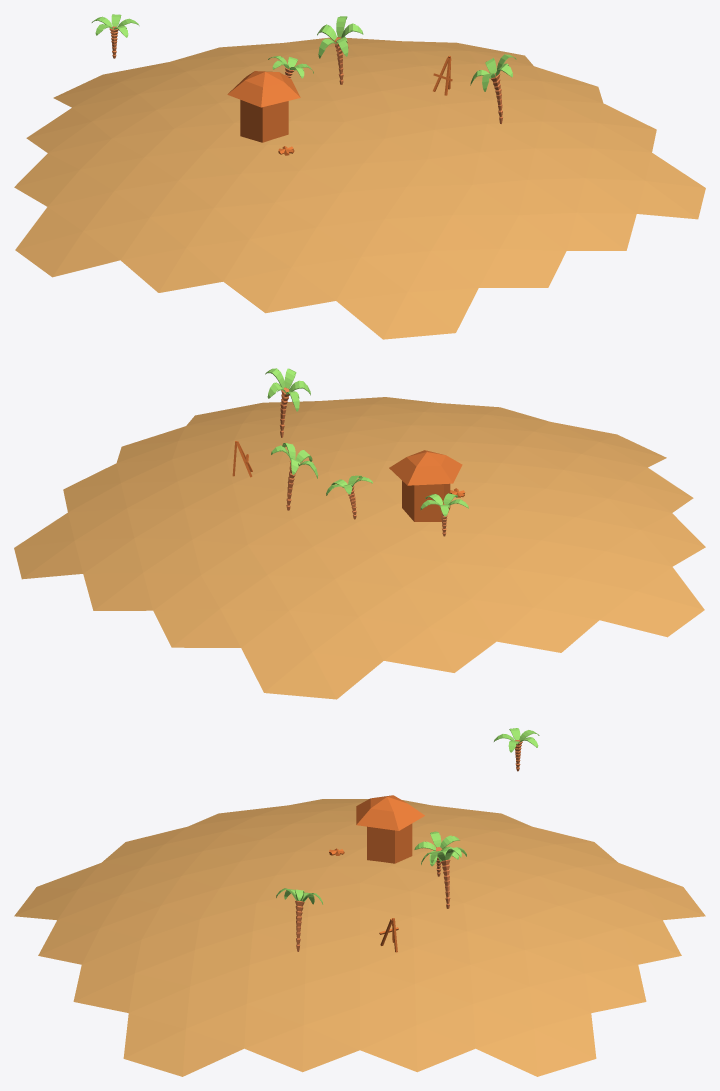
The picture shows the model from 3 angles, top to bottom: view 1: azimuth 30°, elevation 25°; view 2: azimuth 150°, elevation 25°; view 3: azimuth 270°, elevation 25°; orthographic projection. The views are drawn at different scales.
Parts seen in each view (by area): view 1: Icosphere, Cylinder.001, Cylinder, Tree.002_primitive0, Tree.003_primitive0; view 2: Icosphere, Cylinder.001, Cylinder, Tree.003_primitive0, Tree.002_primitive0; view 3: Icosphere, Cylinder.001, Cylinder.
Boxes of the visible parts, x1,y1,x2,y2 form: Icosphere: [14, 37, 705, 339]; Cylinder.001: [227, 71, 300, 107]; Cylinder: [240, 100, 288, 142]; Tree.002_primitive0: [317, 16, 363, 58]; Tree.003_primitive0: [470, 54, 516, 91]; Icosphere: [14, 397, 705, 699]; Cylinder.001: [389, 450, 462, 485]; Cylinder: [402, 481, 450, 521]; Tree.003_primitive0: [265, 368, 310, 411]; Tree.002_primitive0: [271, 443, 318, 478]; Icosphere: [14, 799, 705, 1076]; Cylinder.001: [356, 795, 424, 830]; Cylinder: [367, 823, 412, 863].
Size of the model in its own units: 269 by 62.25 by 277.
